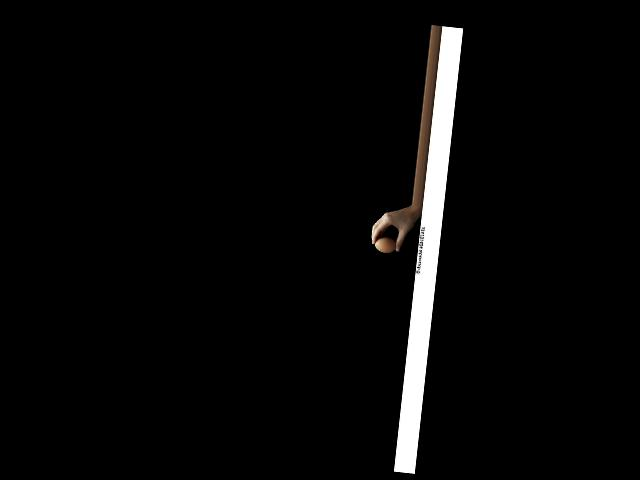egg: (373, 236, 396, 254)
